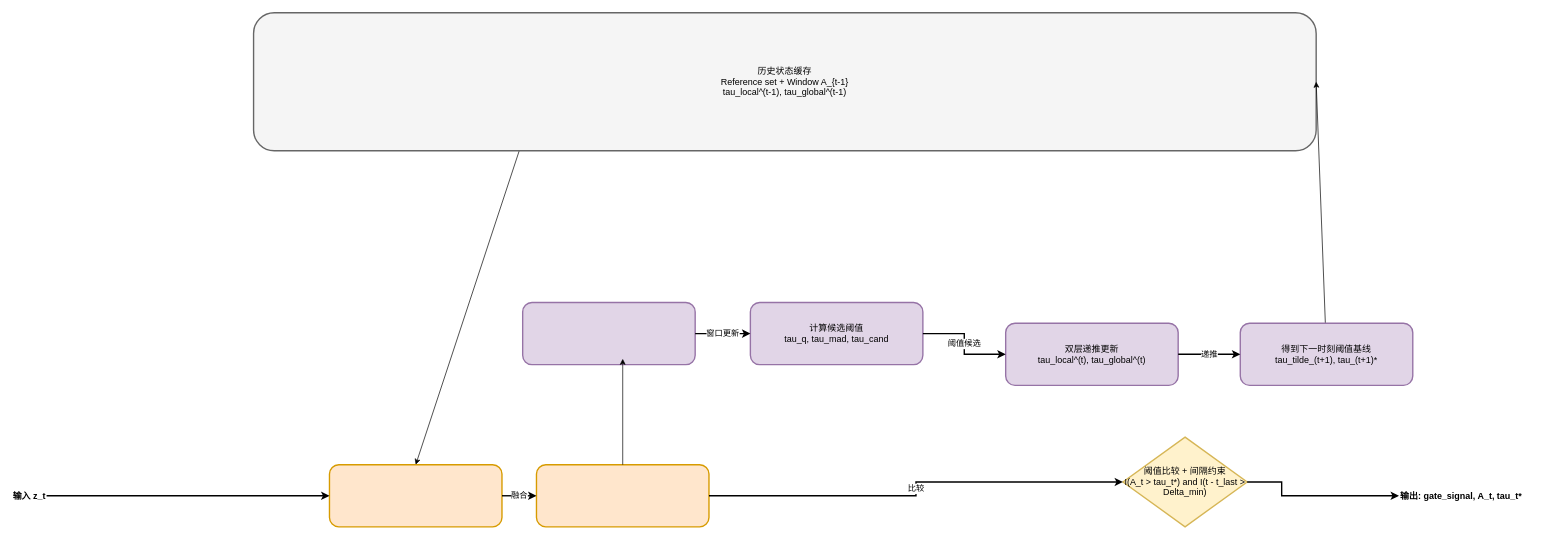
Some shapes in this 1555 by 539 pixel diagram are drawn without their labels. Each missing label, with the centre of its shape:
"写入新分数 A_t 到滑动窗口 更新 A_t window" belongs at [609,333].
"多尺度异常评分 A_short, A_mid, A_long" belongs at [415,495].
"融合综合分数 A_t A_t = w_s A_s + w_m A_m + w_l A_l" belongs at [622,495].
